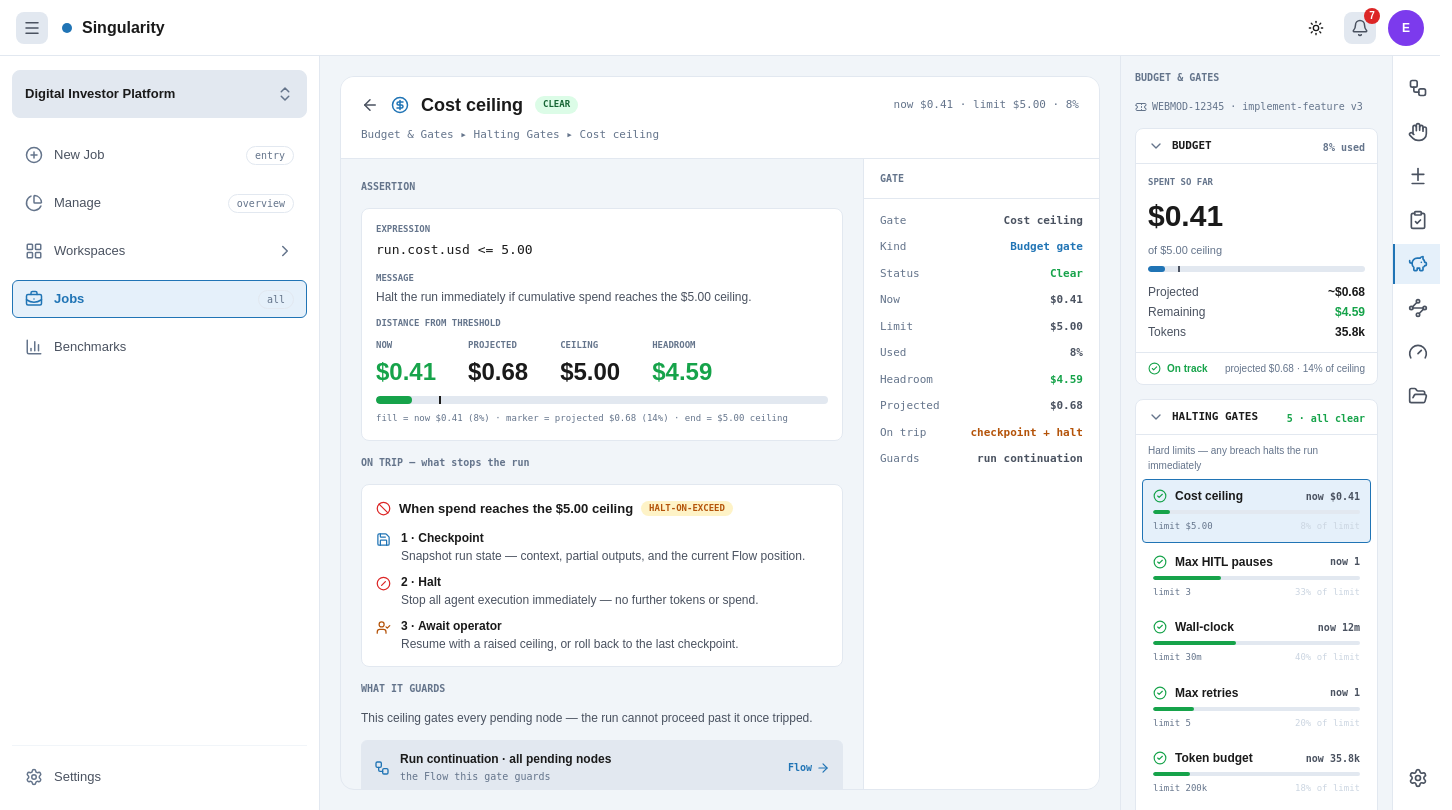
Test case: Budget & Gates section › cross-links to the flow it guards
Expected: the heading "Cost ceiling" is shown, x1=421 y1=91 x2=523 y2=119
Click the link "Run continuation" at (602, 768), box x1=361 y1=740 x2=843 y2=795
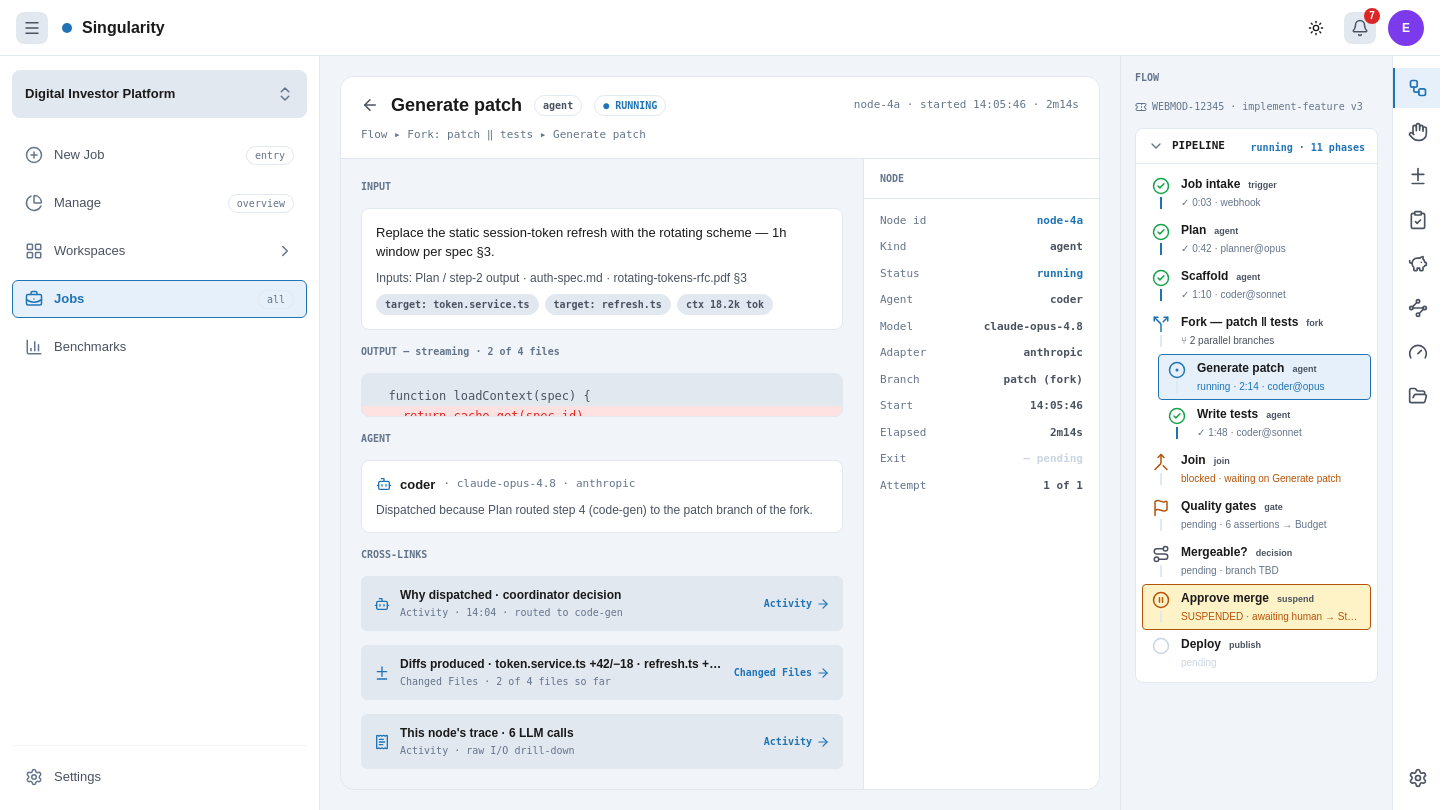
Now the text "Job intake" is shown, box x1=1181 y1=176 x2=1240 y2=192
